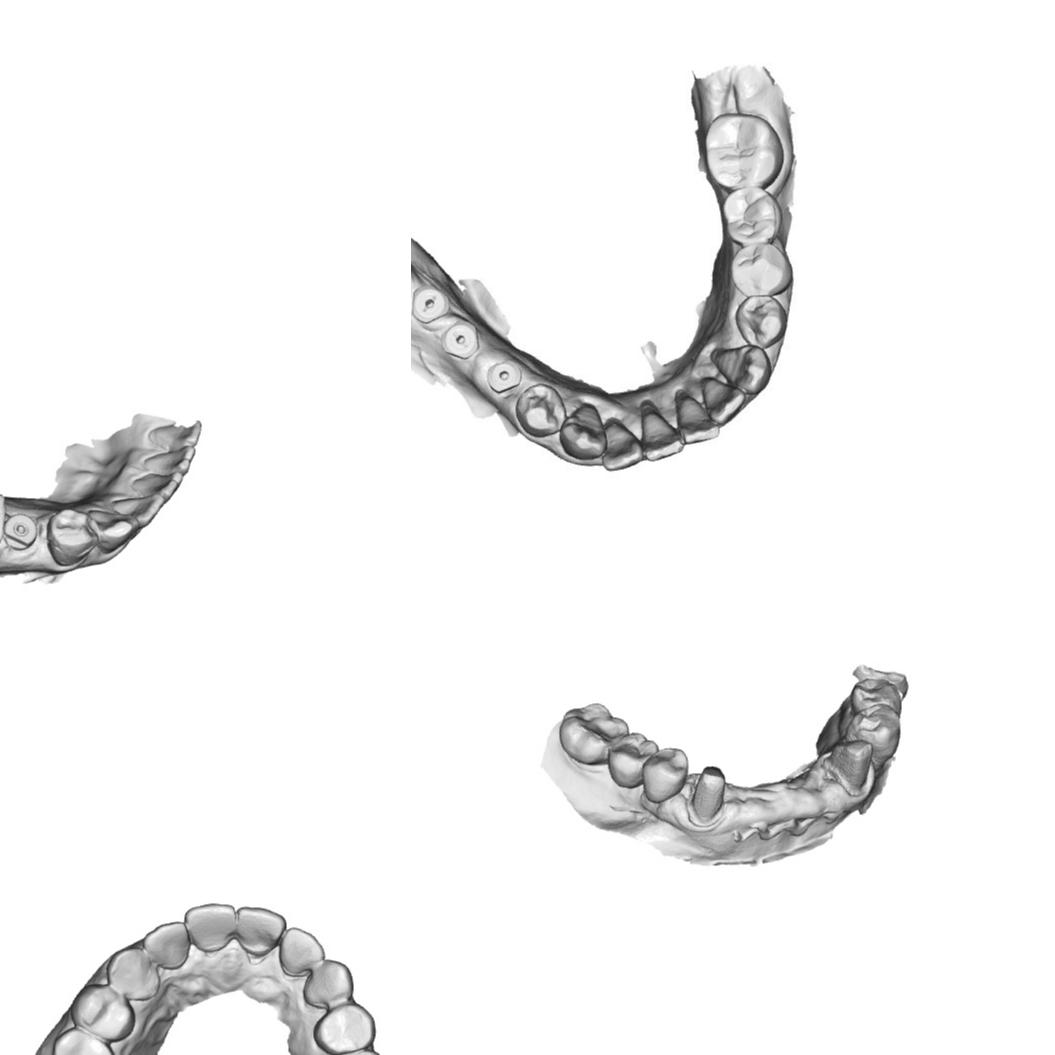canine: (104, 946, 161, 1002), (709, 345, 770, 392), (557, 403, 605, 461), (87, 504, 140, 555), (301, 958, 355, 1008)
crown: (824, 737, 876, 796), (686, 764, 728, 823)
implant: (3, 512, 40, 552), (483, 360, 522, 395)
implant_minus: (440, 321, 480, 362), (411, 284, 448, 322)
incisor: (233, 904, 288, 958), (183, 900, 236, 955), (139, 920, 192, 970), (641, 402, 683, 464), (277, 926, 327, 978), (601, 417, 647, 473), (676, 392, 720, 445), (702, 377, 748, 425), (110, 488, 164, 528), (128, 467, 185, 502), (136, 443, 196, 474), (143, 421, 204, 450)
molar: (704, 109, 782, 192), (558, 701, 630, 766)
premolar: (68, 982, 137, 1042), (843, 702, 902, 772), (310, 1001, 376, 1055), (723, 187, 782, 247), (45, 506, 97, 568), (730, 245, 793, 295), (732, 294, 788, 350), (606, 731, 660, 788), (642, 746, 690, 803), (515, 385, 567, 437), (848, 677, 902, 719), (50, 1027, 117, 1055)
